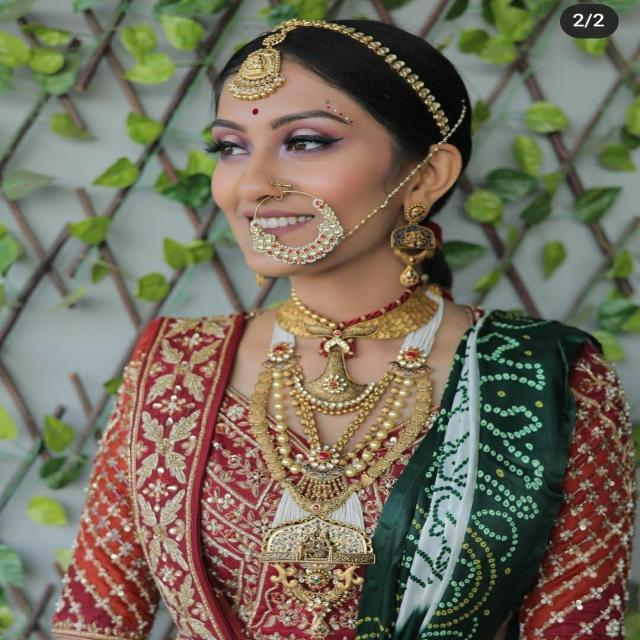Earring: (390, 202, 444, 294), (254, 260, 278, 298)
